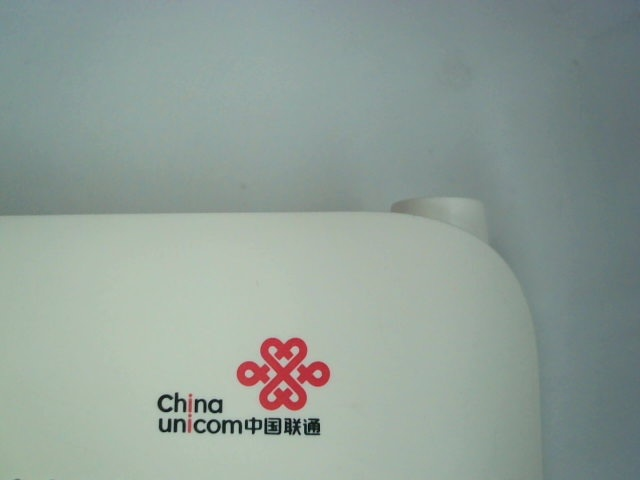AC_ChinaUnicom: (150, 331, 339, 440)
